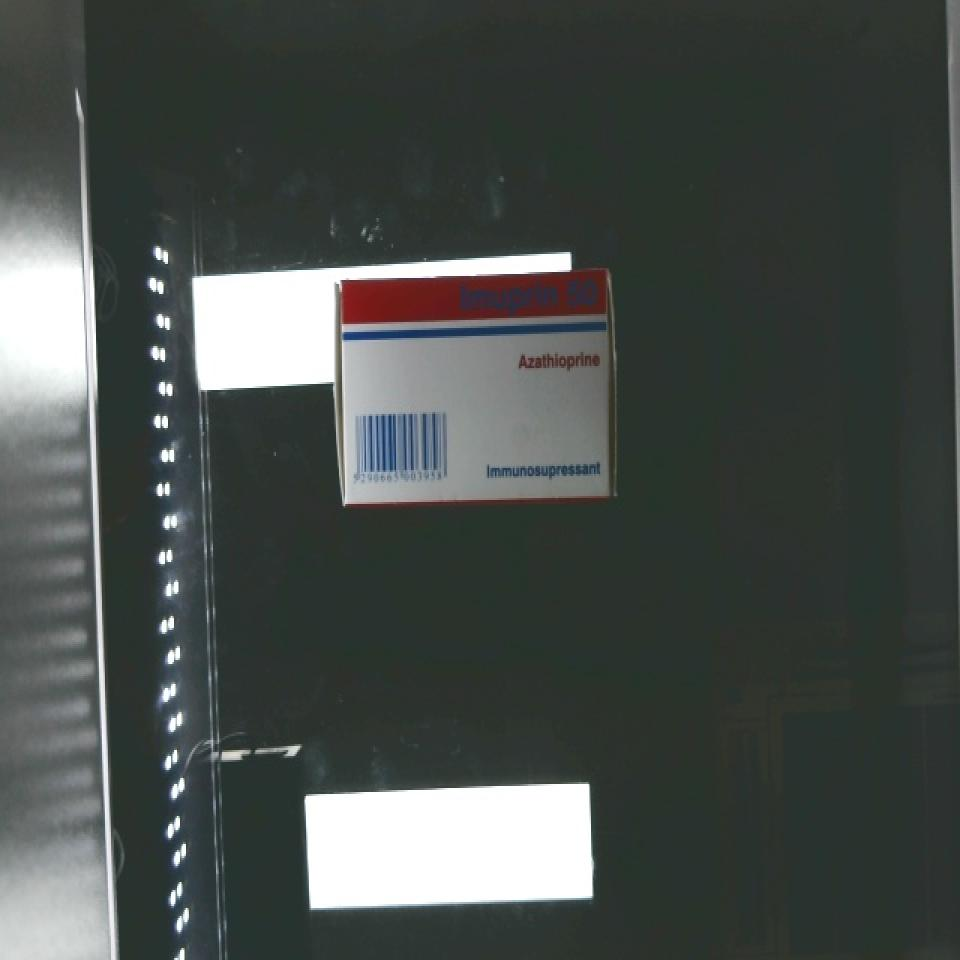medicine_box: (335, 268, 619, 504)
medicine_label_obb: (449, 271, 610, 326)
